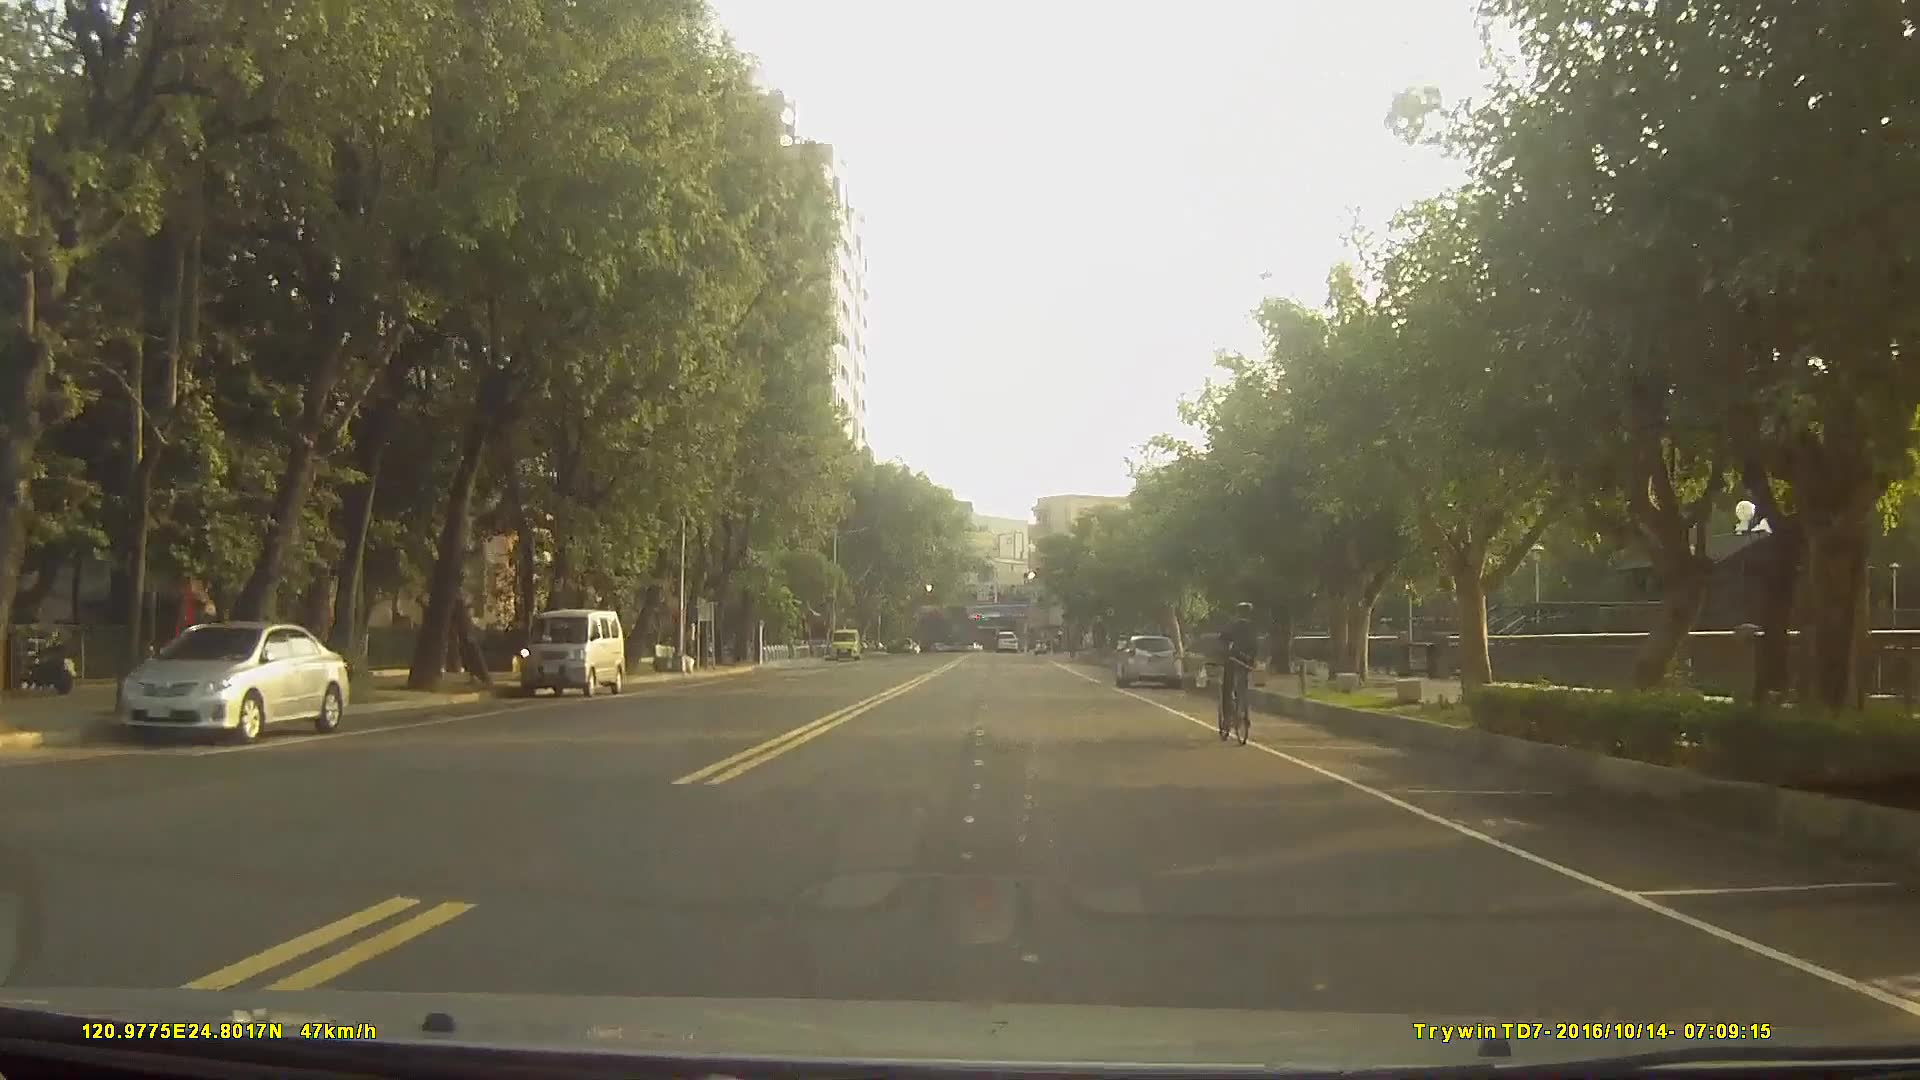rider: (1219, 594, 1261, 738)
vehicle: (114, 617, 351, 741), (519, 605, 625, 697), (1114, 632, 1186, 690), (993, 626, 1018, 651)
